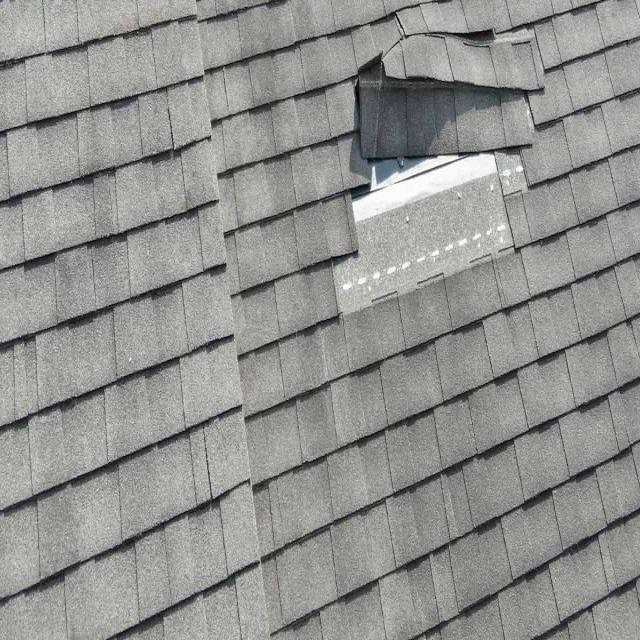damage: (329, 16, 552, 328)
